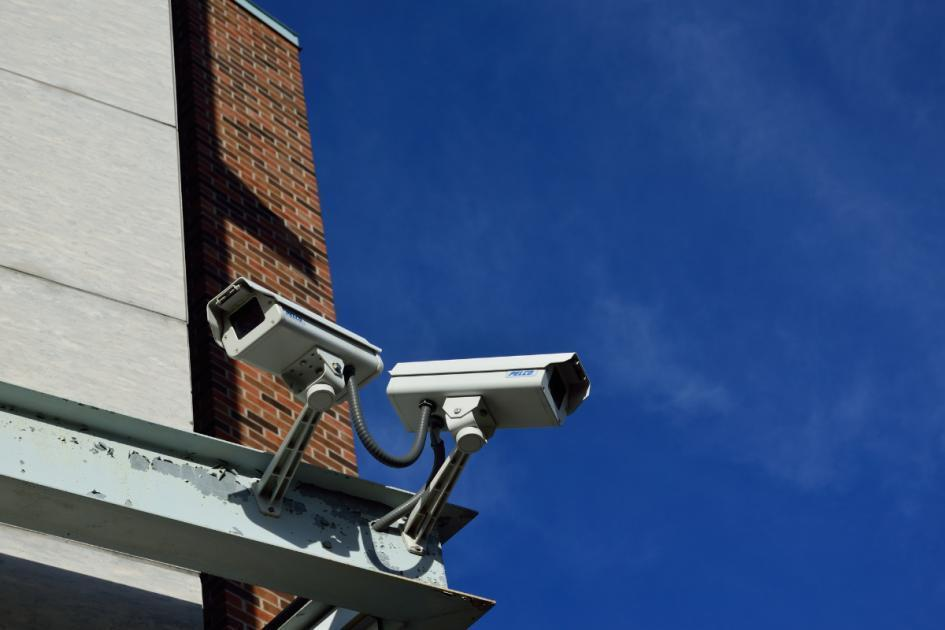camera: (390, 278, 598, 507), (187, 255, 385, 425)
